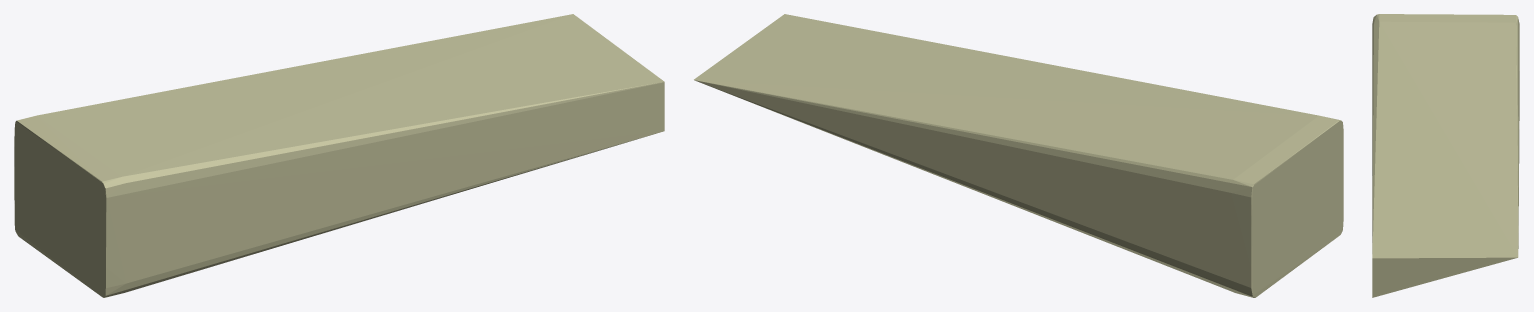
File: structure_beam_mount_b01.glb
3 views of the same model, side by side, from view 1: azimuth 30°, elevation 25°; view 2: azimuth 150°, elevation 25°; view 3: azimuth 270°, elevation 25° (orthographic). The views are drawn at different scales.
Parts seen in each view (by area): view 1: geometry_0; view 2: geometry_0; view 3: geometry_0.
Part boxes in pixels (x1,y1,x2,y2): geometry_0: (14,14,664,297); geometry_0: (694,14,1343,297); geometry_0: (1372,14,1519,297).
Bounding box in the file's own units: 0.48 × 0.0952 × 0.1371.
